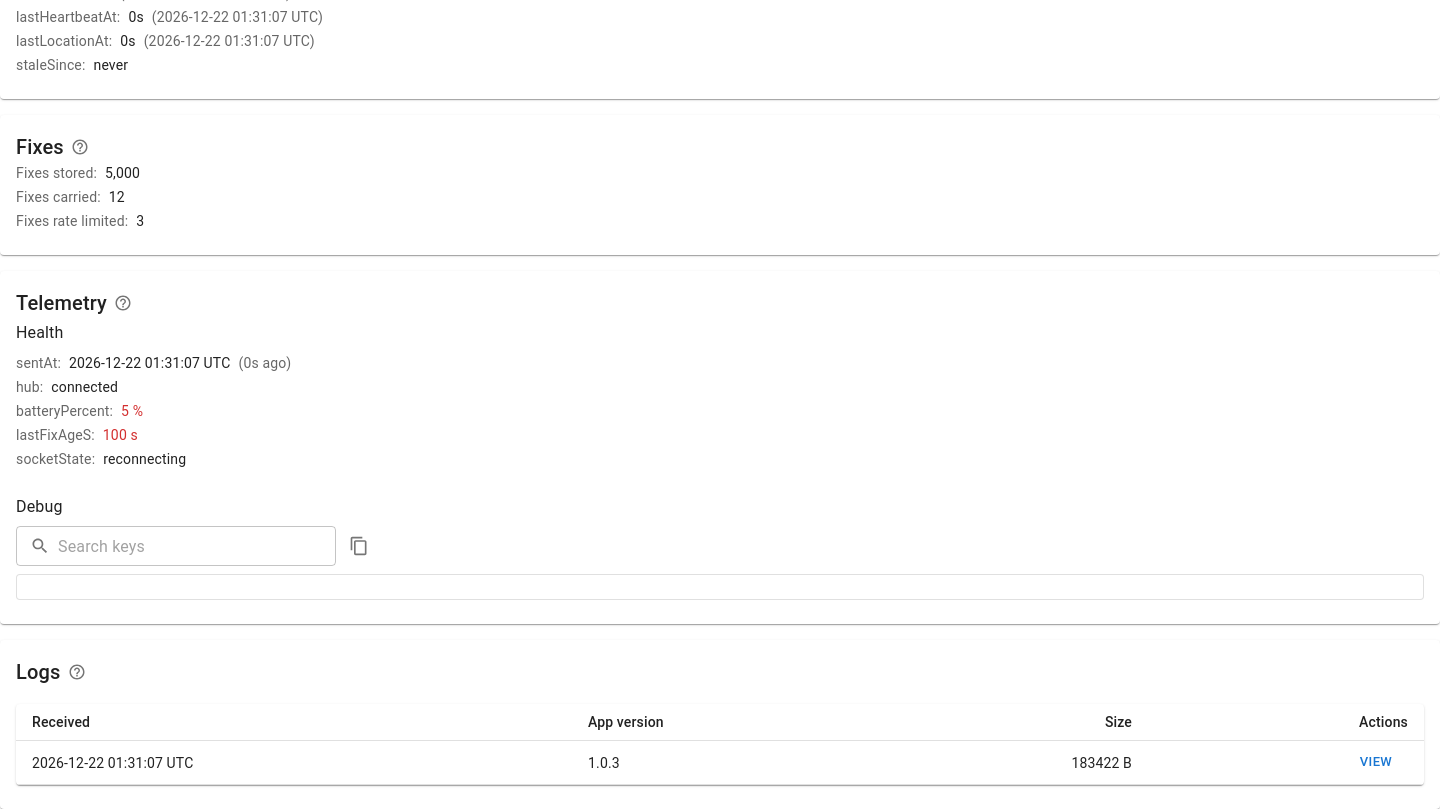
BeaconDetail logs › shows the log rows for every beacon
(page scrolled)
Note: Clicking view fetches the text and shows it in a pre.
Click the button "View" at (1376, 763), box [1344,747,1408,778]
(page scrolled)
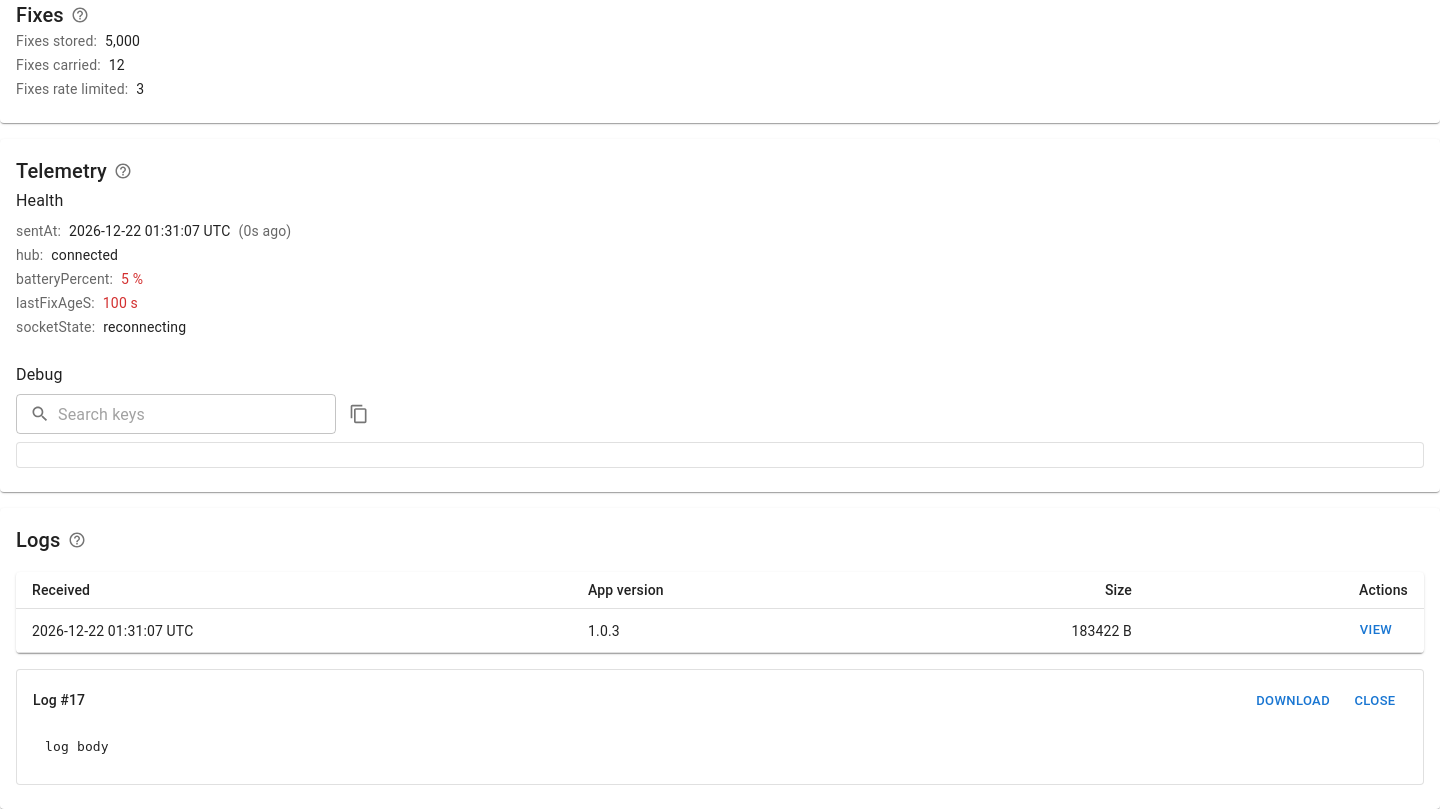
Expected: the text "log body" is shown, [33,725,1407,768]
